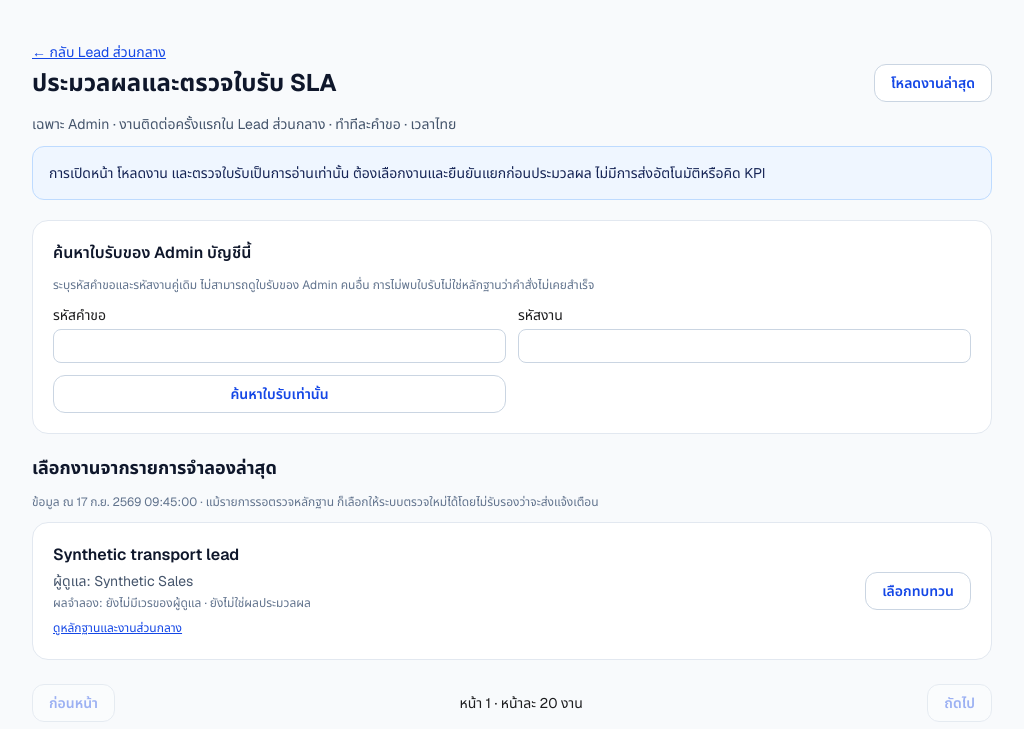
Test: real UI → clients → HTTP handlers with isolated fake RPC transport › requires selection, checkbox and explicit confirmation before one minimal POST and receipt
The width and height of the screenshot is (1024, 729).
Click the button "เลือกทบทวน".
click(918, 591)  # box x1=865 y1=572 x2=971 y2=610
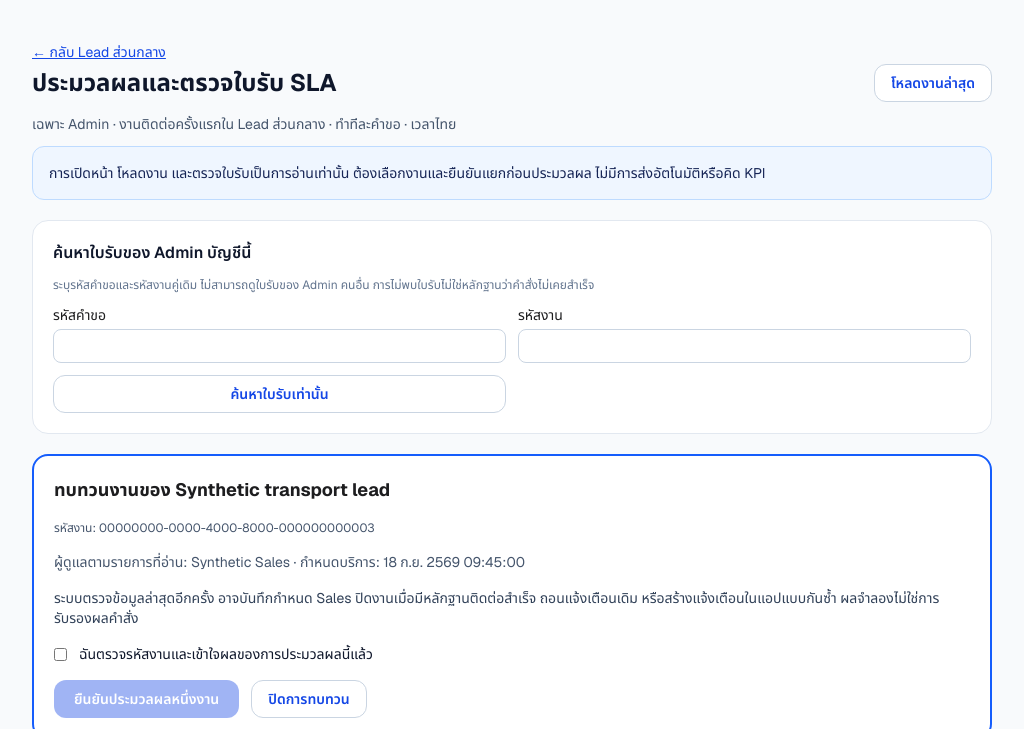
Expected: the button "ยืนยันประมวลผลหนึ่งงาน" is disabled, x1=54 y1=680 x2=239 y2=718
Click the checkbox.
click(60, 654)  # box x1=54 y1=648 x2=67 y2=661
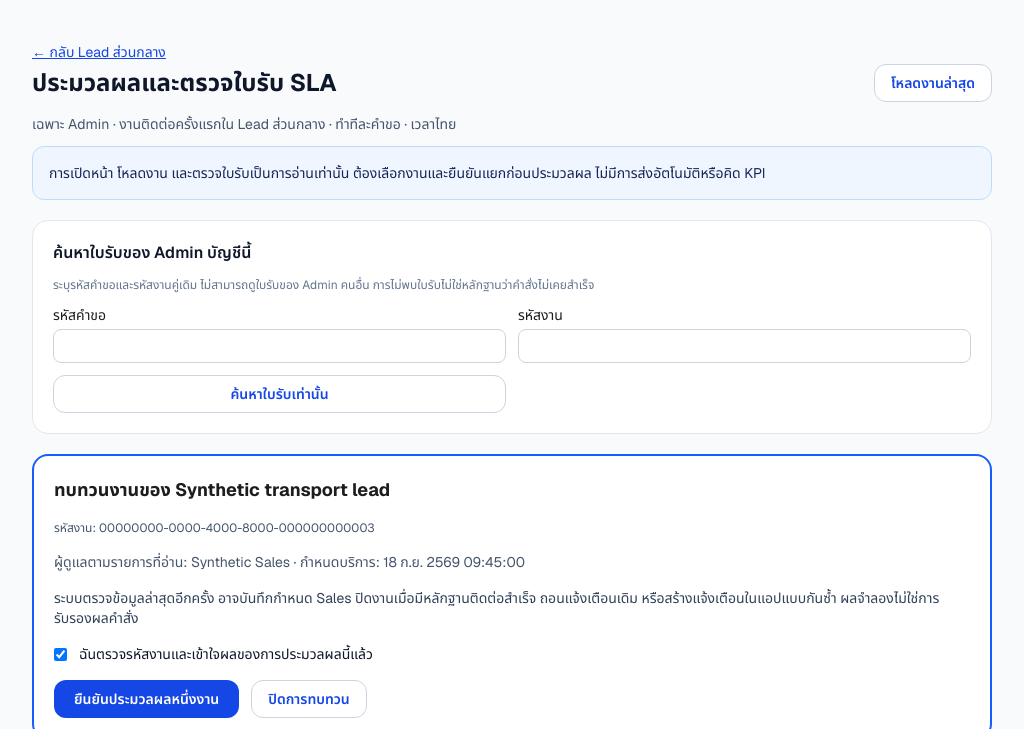
Click the button "ยืนยันประมวลผลหนึ่งงาน".
click(147, 699)  # box x1=54 y1=680 x2=239 y2=718
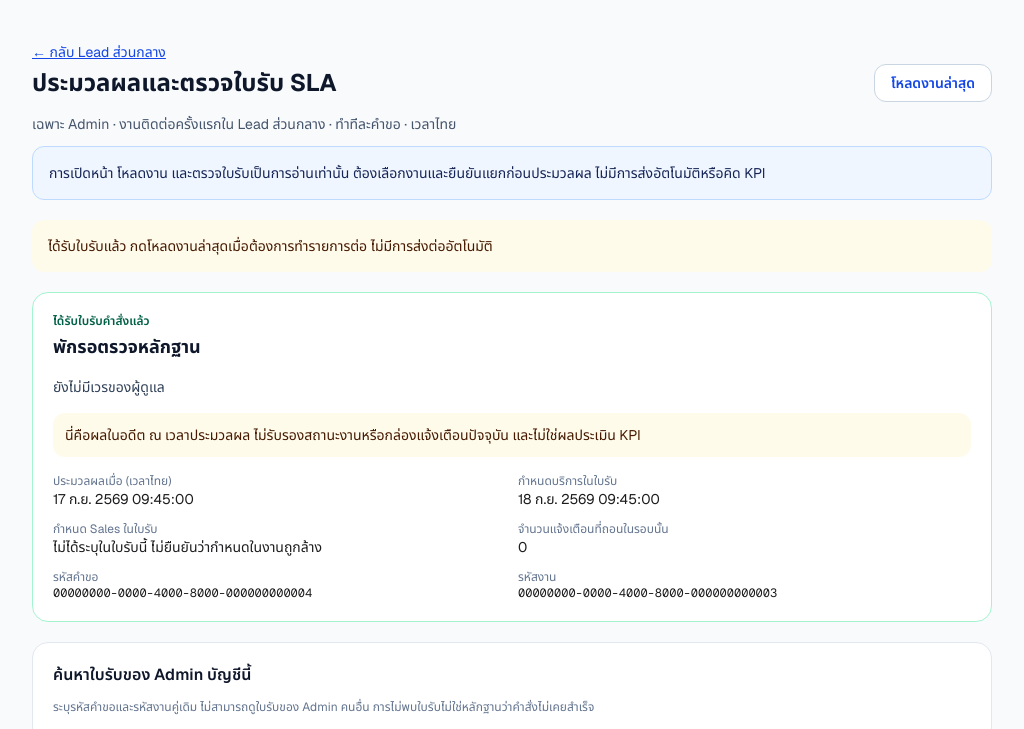
Expected: the element named "ใบรับการประมวลผล" is shown, x1=32 y1=292 x2=992 y2=622
Expected: the text "ได้รับใบรับคำสั่งแล้ว" is shown, x1=53 y1=313 x2=150 y2=329
